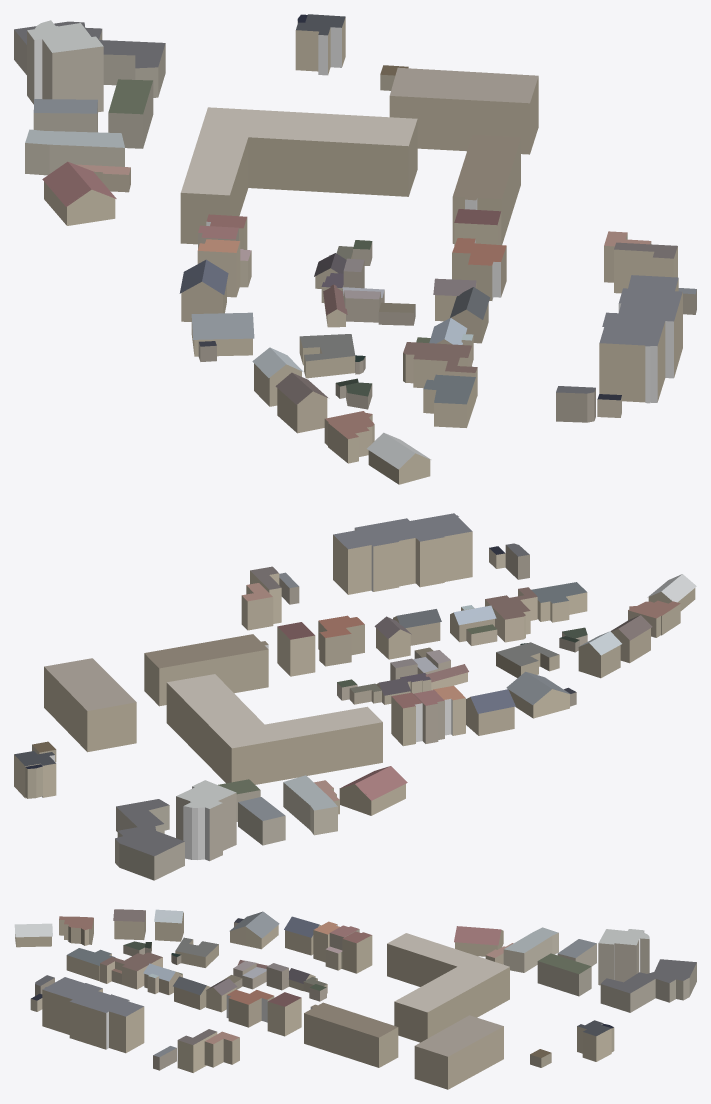
3 renders of one model, top to bottom at view 1: azimuth 30°, elevation 25°; view 2: azimuth 150°, elevation 25°; view 3: azimuth 270°, elevation 25°, orthographic. The views are drawn at different scales.
Parts seen in each view (by area): view 1: tuile; view 2: tuile; view 3: tuile.
Part boxes in pixels (box(x1,y1,x2,y2)): tuile: box(14, 14, 696, 484); tuile: box(14, 513, 696, 880); tuile: box(14, 909, 696, 1089).
Size of the model in its own units: 141 by 20.37 by 259.
